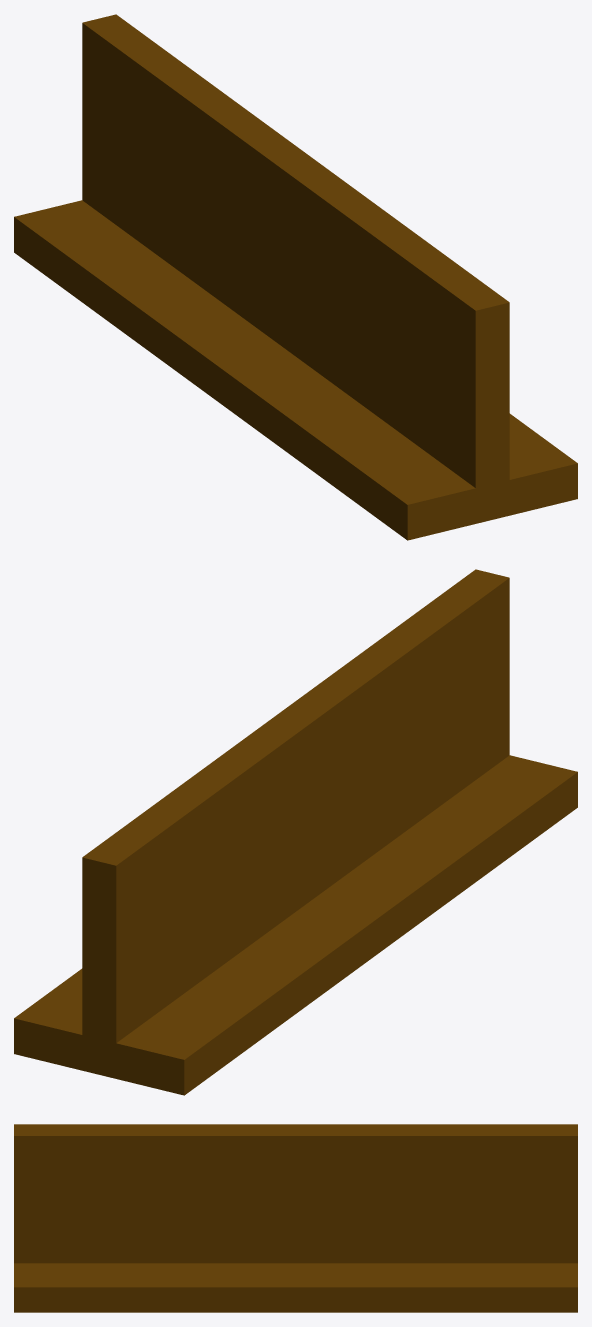
3 renders of one model, top to bottom at view 1: azimuth 30°, elevation 25°; view 2: azimuth 150°, elevation 25°; view 3: azimuth 270°, elevation 25°, orthographic. The views are drawn at different scales.
Visible parts, largest first — view 1: base; view 2: base; view 3: base.
Boxes of the visible parts, left/top/right/bottom form: base: left=14, top=14, right=577, bottom=540; base: left=14, top=569, right=577, bottom=1095; base: left=14, top=1124, right=577, bottom=1312.
Size of the model in its own units: 0.2 by 0.8 by 0.2391.
